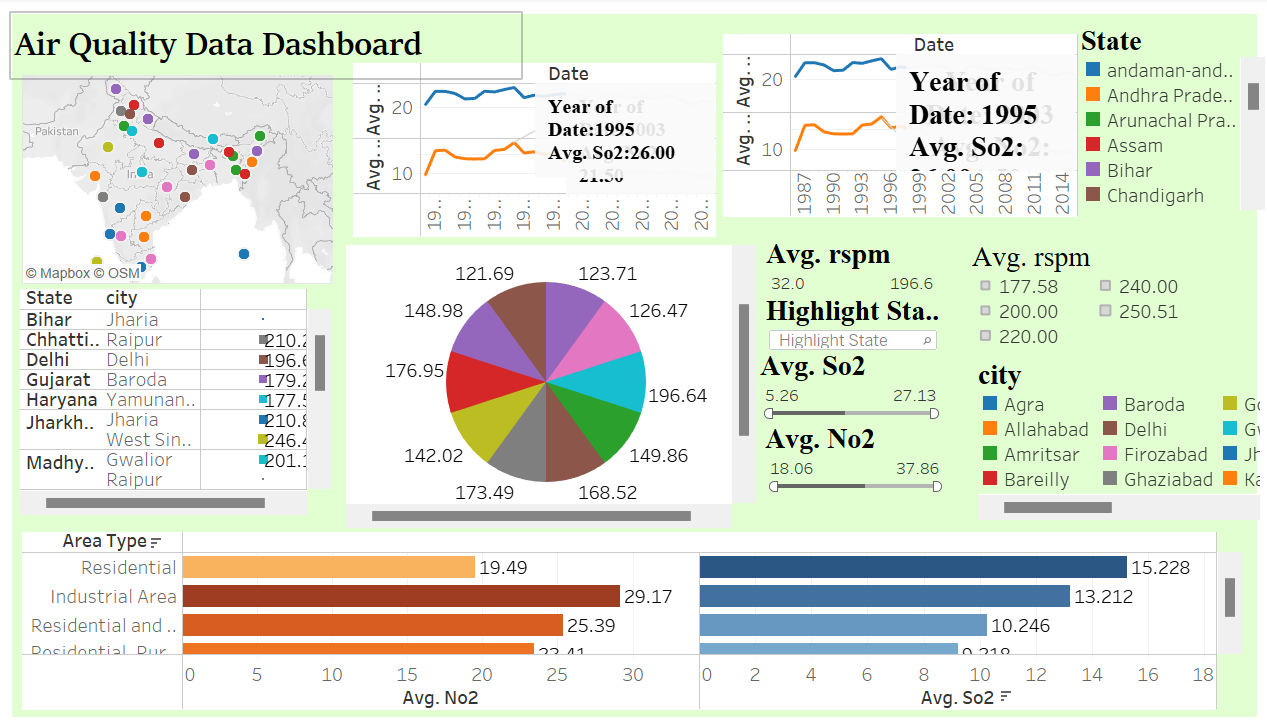

What the dashboard file says about the page in this screenshot:
{"tool":"tableau","page":{"name":"Air quality data dashboard","canvas":[1169,827],"ordinal":0},"visuals":[{"type":"text","box":[10,13,470,74]},{"type":"legend","title":"1","param":"[federated.12zb7un174lf200zke9t30y4p6y1].[none:state:nk]","box":[996,26,172,211]},{"type":"worksheet","title":"3","mark":"Automatic","rows":["no2","so2"],"cols":["date"],"box":[666,36,327,209]},{"type":"worksheet","title":"2","mark":"Automatic","rows":["no2","so2"],"cols":["date"],"box":[325,69,335,199]},{"type":"worksheet","title":"1","mark":"Automatic","box":[20,83,287,238]},{"type":"filter","title":"6","param":"[federated.12zb7un174lf200zke9t30y4p6y1].[avg:rspm:qk]","box":[706,268,160,61]},{"type":"legend","title":"4","param":"[federated.12zb7un174lf200zke9t30y4p6y1].[avg:rspm:qk]","box":[895,272,268,123]},{"type":"worksheet","title":"6","mark":"Pie","box":[319,276,378,322]},{"type":"worksheet","title":"4","mark":"Automatic","rows":["state","location"],"box":[18,326,287,257]},{"type":"highlighter","title":"6","param":"[federated.12zb7un174lf200zke9t30y4p6y1].[none:state:nk]","box":[706,333,160,88]},{"type":"filter","title":"5","param":"[federated.12zb7un174lf200zke9t30y4p6y1].[avg:so2:qk]","box":[700,396,169,84]},{"type":"legend","title":"4","param":"[federated.12zb7un174lf200zke9t30y4p6y1].[none:location:nk]","box":[901,406,262,183]},{"type":"filter","title":"5","param":"[federated.12zb7un174lf200zke9t30y4p6y1].[avg:no2:qk]","box":[705,479,167,94]},{"type":"worksheet","title":"5","mark":"Automatic","rows":["type"],"cols":["no2","so2"],"box":[20,603,1124,203]}]}

Visuals, with their boxes on the page's 1169x827 design canvas (x1, y1, x2, y2). These are canvas units, not pixel positions in the 1267x727 screenshot, which may show the page scaled, cropped or inside an application window:
text: [10, 13, 480, 87]
"1" legend: [996, 26, 1168, 237]
"3" worksheet: [666, 36, 993, 245]
"2" worksheet: [325, 69, 660, 268]
"1" worksheet: [20, 83, 307, 321]
"6" filter: [706, 268, 866, 329]
"4" legend: [895, 272, 1163, 395]
"6" worksheet (Pie marks): [319, 276, 697, 598]
"4" worksheet: [18, 326, 305, 583]
"6" highlighter: [706, 333, 866, 421]
"5" filter: [700, 396, 869, 480]
"4" legend: [901, 406, 1163, 589]
"5" filter: [705, 479, 872, 573]
"5" worksheet: [20, 603, 1144, 806]
